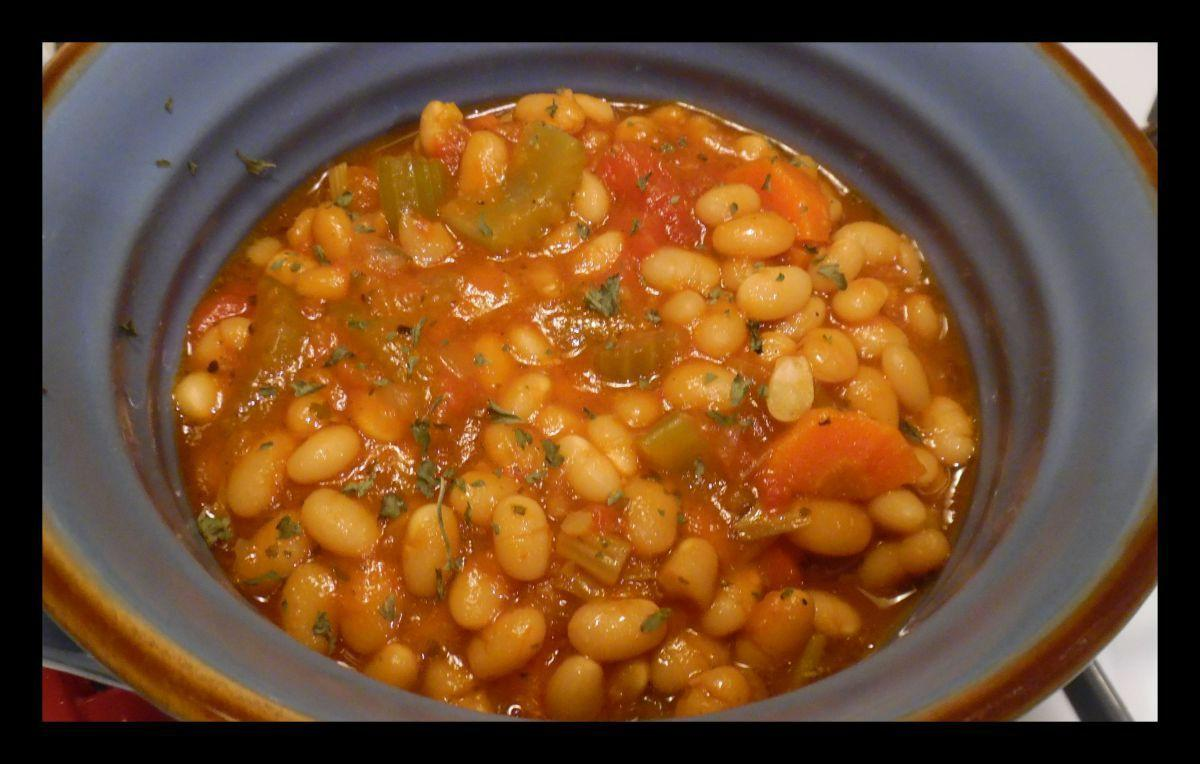RajmaCurry: (169, 92, 990, 712)
